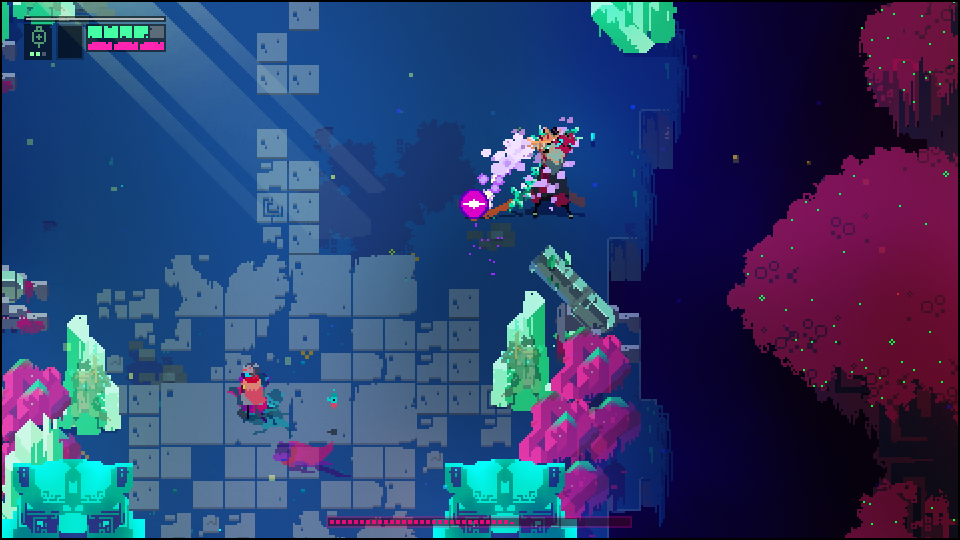hanged_man: (503, 118, 584, 222)
hanged_shot: (458, 186, 490, 224)
player: (236, 365, 269, 422)
